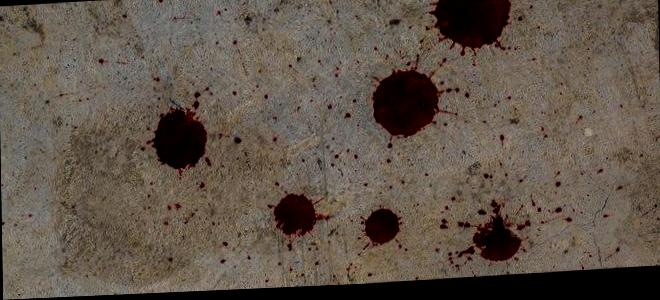Fire: (429, 0, 525, 60), (371, 72, 448, 143), (146, 109, 208, 177), (473, 206, 523, 266), (267, 196, 325, 240), (365, 212, 403, 249)
